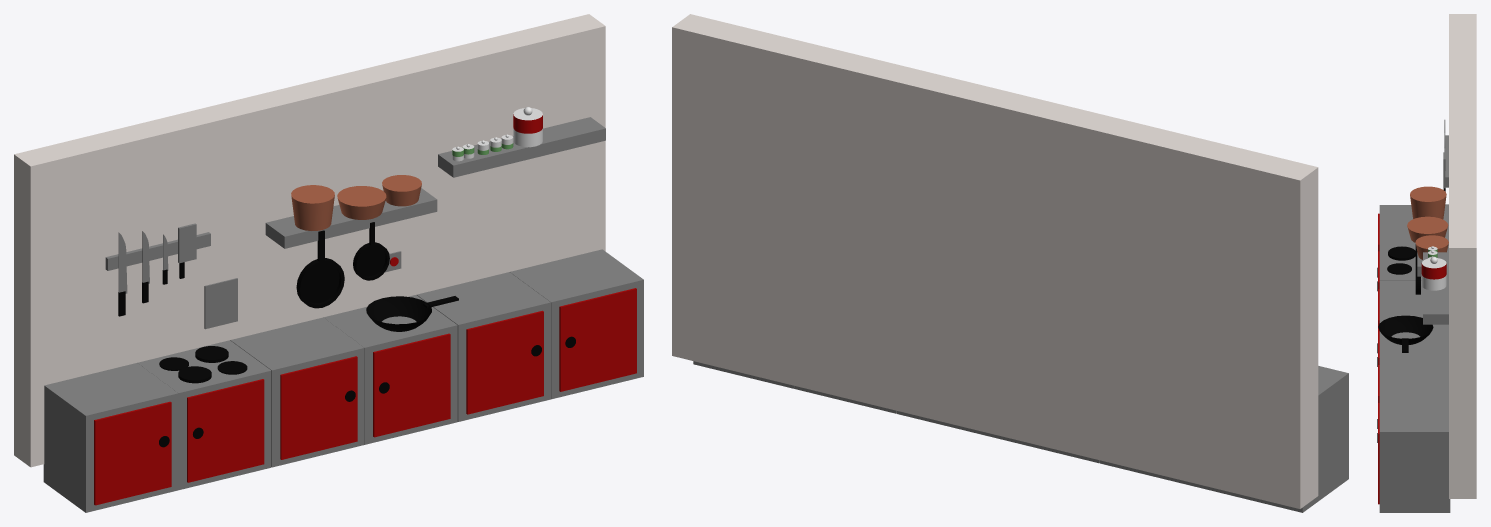
File: kitchenBack.fbx
3 renders of one model, left to right at view 1: azimuth 30°, elevation 25°; view 2: azimuth 150°, elevation 25°; view 3: azimuth 270°, elevation 25°, orthographic. The views are drawn at different scales.
Parts seen in each view (by area): view 1: BackWall, TableDoors (×6), TableTops, TableTops2, TableTops5, TableTops4, TableTops3, TableTops1, Shelf1, Shelf2, FryingPan2, BigPot (+8 smaller); view 2: BackWall, TableTops; view 3: BackWall, TableTops5, TableTops4, TableTops3, TableTops2, TableTops, Shelf1, Wok, BigPot, TableTops1, Jar5, BigPot2 (+7 smaller).
Part boxes in pixels (box(x1,y1,x2,y2)): BackWall: box(14, 14, 605, 467); TableDoors (×6): box(94, 288, 636, 505); TableTops: box(43, 363, 178, 512); TableTops2: box(230, 317, 364, 467); TableTops5: box(510, 249, 643, 399); TableTops4: box(417, 272, 550, 421); TableTops3: box(323, 295, 457, 444); TableTops1: box(137, 340, 271, 489); Shelf1: box(438, 117, 605, 177); Shelf2: box(265, 188, 437, 248); FryingPan2: box(296, 258, 344, 308); BigPot: box(291, 185, 334, 230); BackWall: box(672, 14, 1318, 508); TableTops: box(1201, 366, 1348, 512); BackWall: box(1449, 14, 1476, 498); TableTops5: box(1379, 394, 1450, 512); TableTops4: box(1379, 356, 1448, 394); TableTops3: box(1379, 318, 1448, 356); TableTops2: box(1379, 280, 1422, 318); TableTops: box(1379, 205, 1413, 242); Shelf1: box(1423, 252, 1448, 324); Wok: box(1378, 315, 1433, 344); BigPot: box(1410, 186, 1446, 219); TableTops1: box(1379, 242, 1421, 280); Jar5: box(1421, 258, 1446, 290); BigPot2: box(1407, 216, 1448, 242).
Size of the model in its own units: 20 by 10.61 by 3.6.
